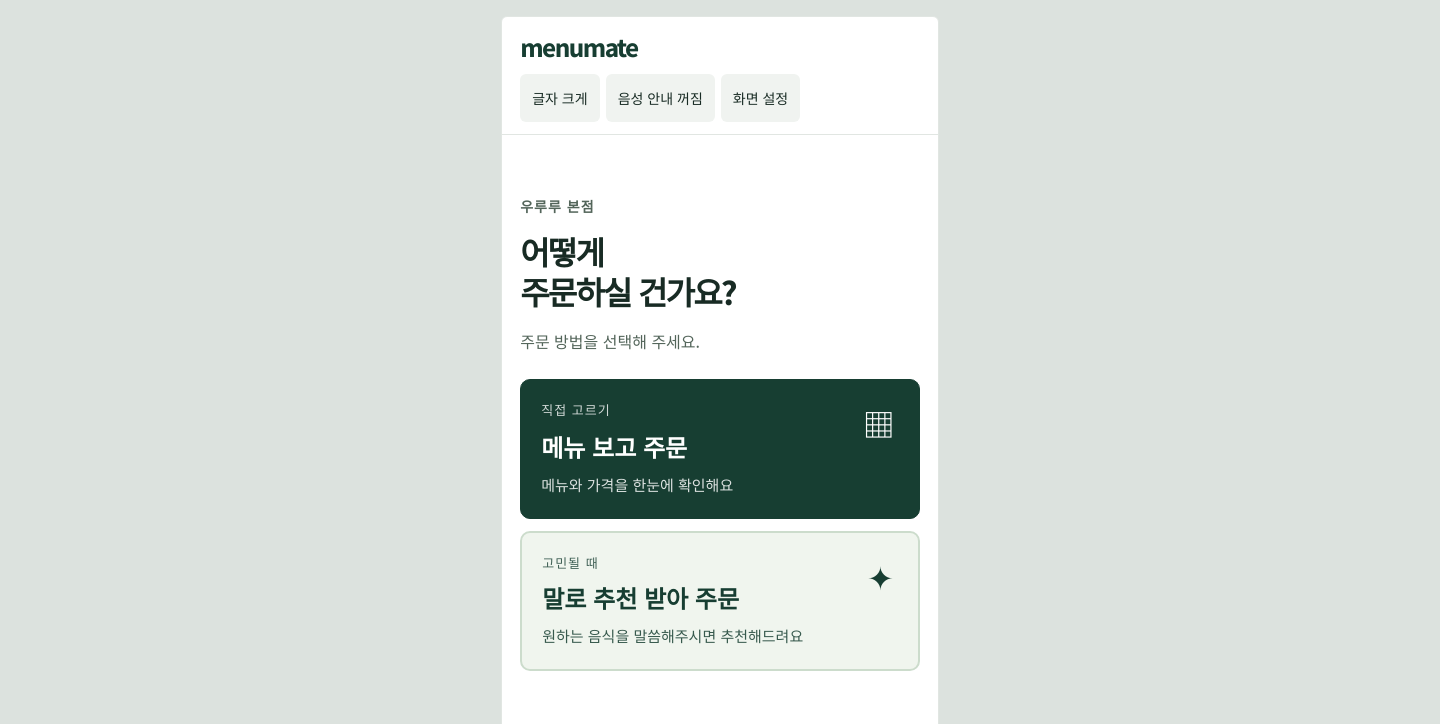
kiosk parity features › suggests side dishes before payment and lets the guest add one
Click the button "직접 고르기 메뉴 보고 주문 메뉴와 가격을 한눈에 확인해요 ▦".
click(576, 409)  # box [520,379,920,519]
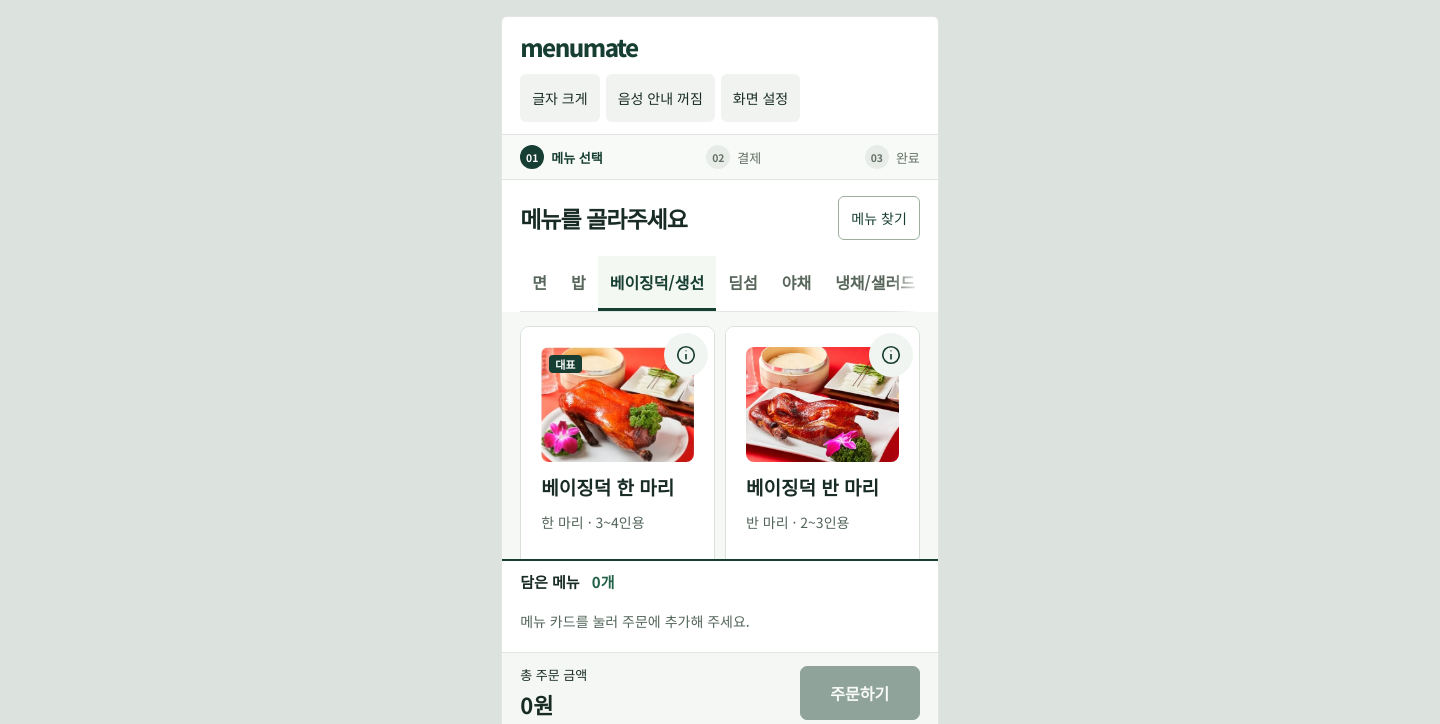
Click the button "면".
click(540, 284)  # box [520,256,559,311]
(page scrolled)
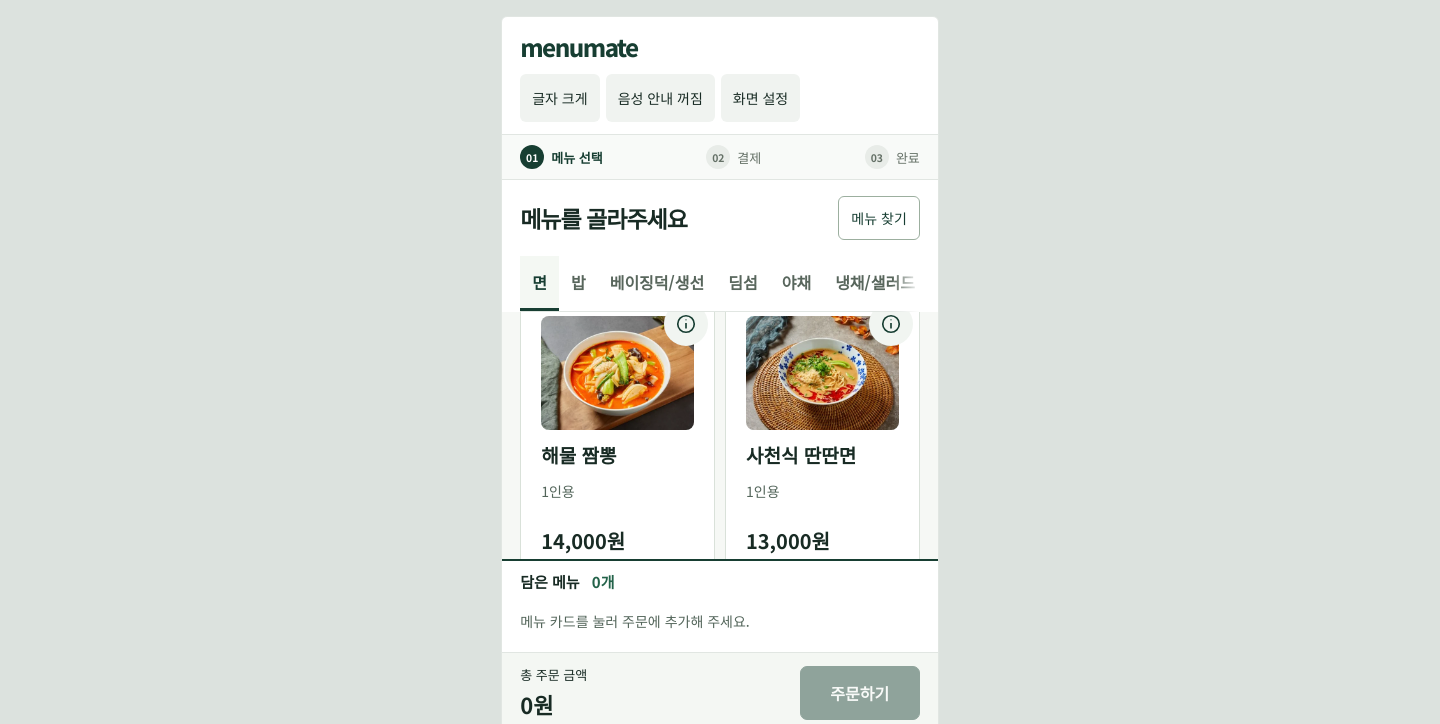
Click the button with aria-label "해물 짬뽕 선택".
click(618, 435)  # box [521,296,714,575]
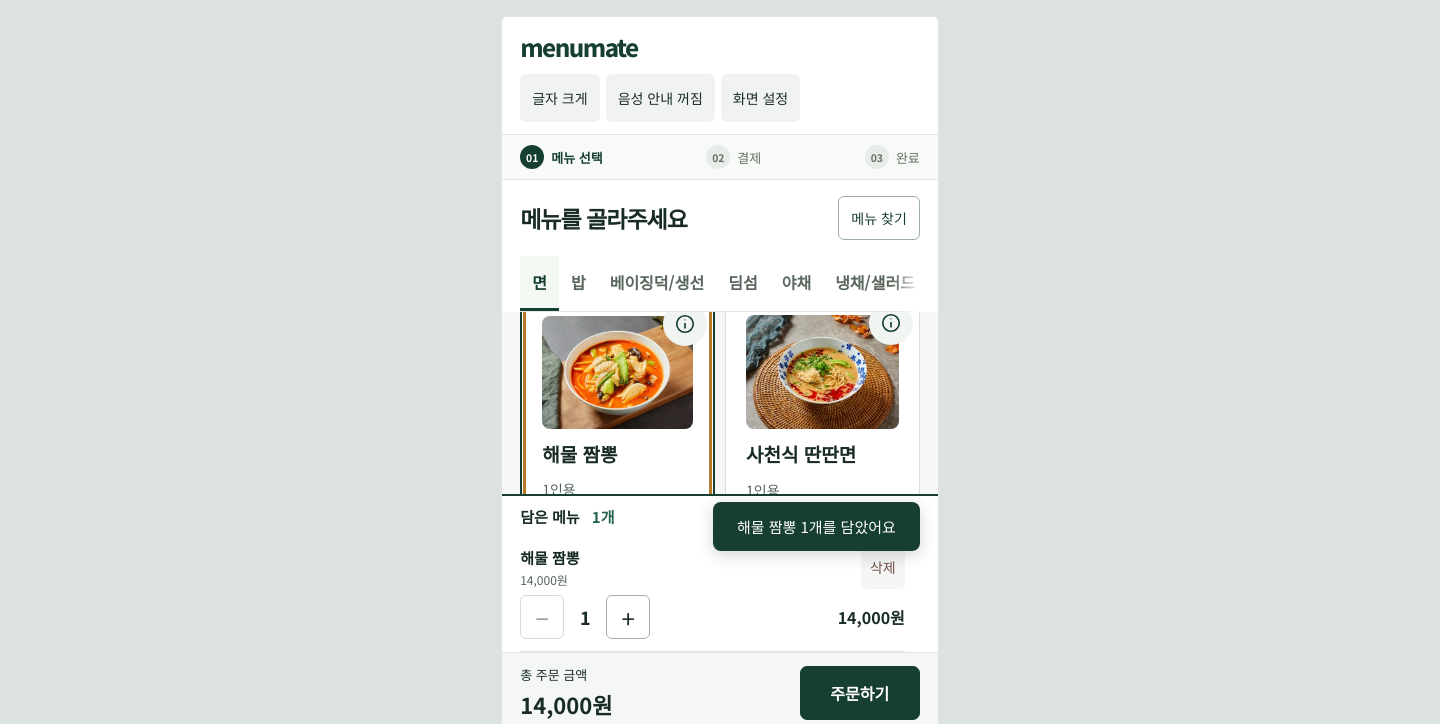
Click the button "주문하기".
click(860, 692)  # box [800,666,920,720]
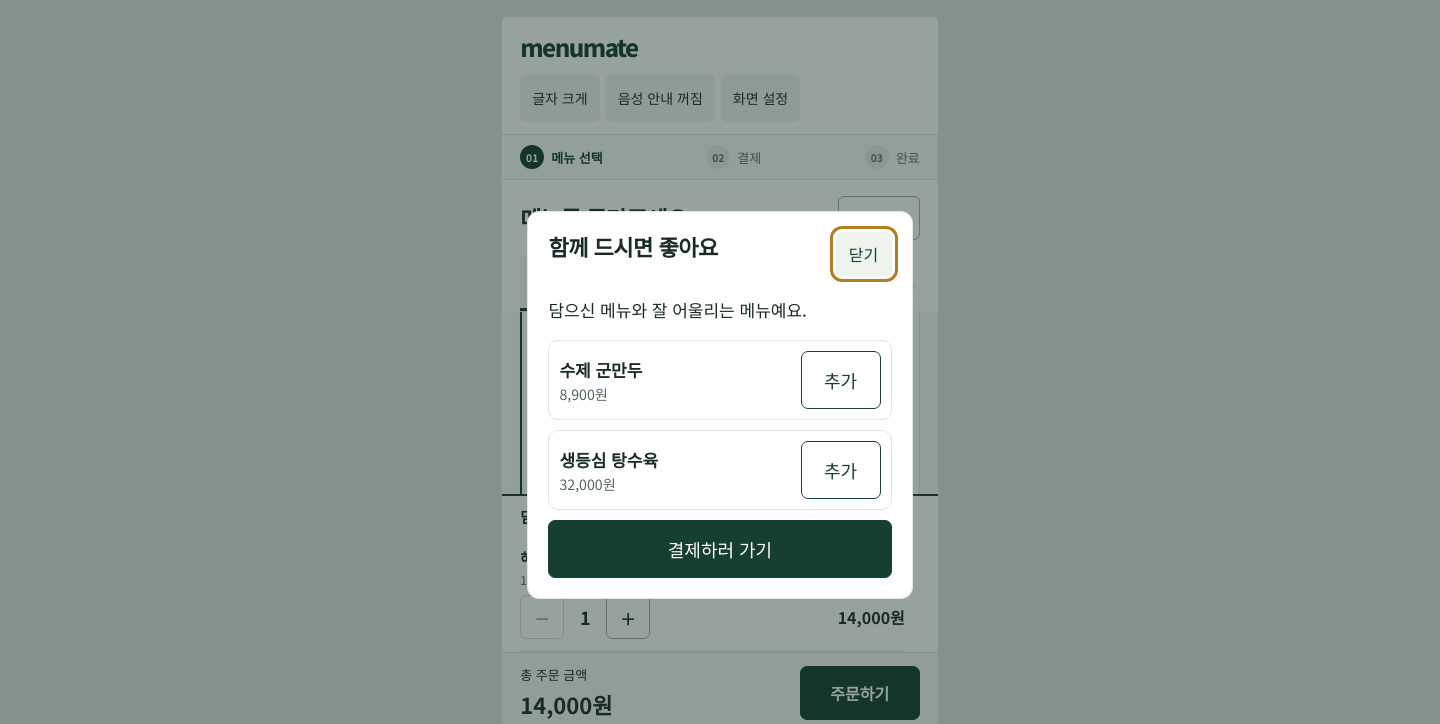
Expected: the dialog shows "함께 드시면 좋아요", [548,230,718,262]
Click the button "추가" next to "수제 군만두".
click(840, 380)  # box [800,351,880,409]
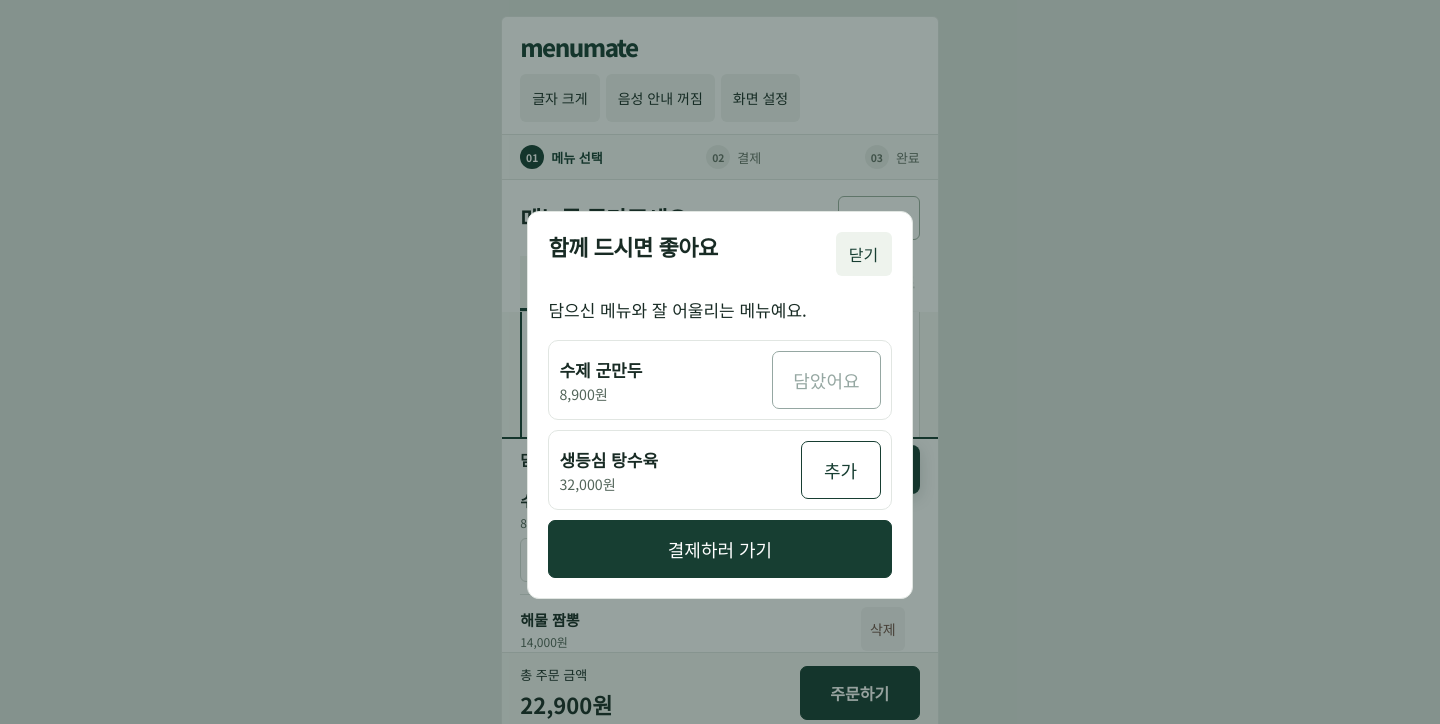
Click the button "결제하러 가기".
click(720, 549)  # box [548,520,892,578]
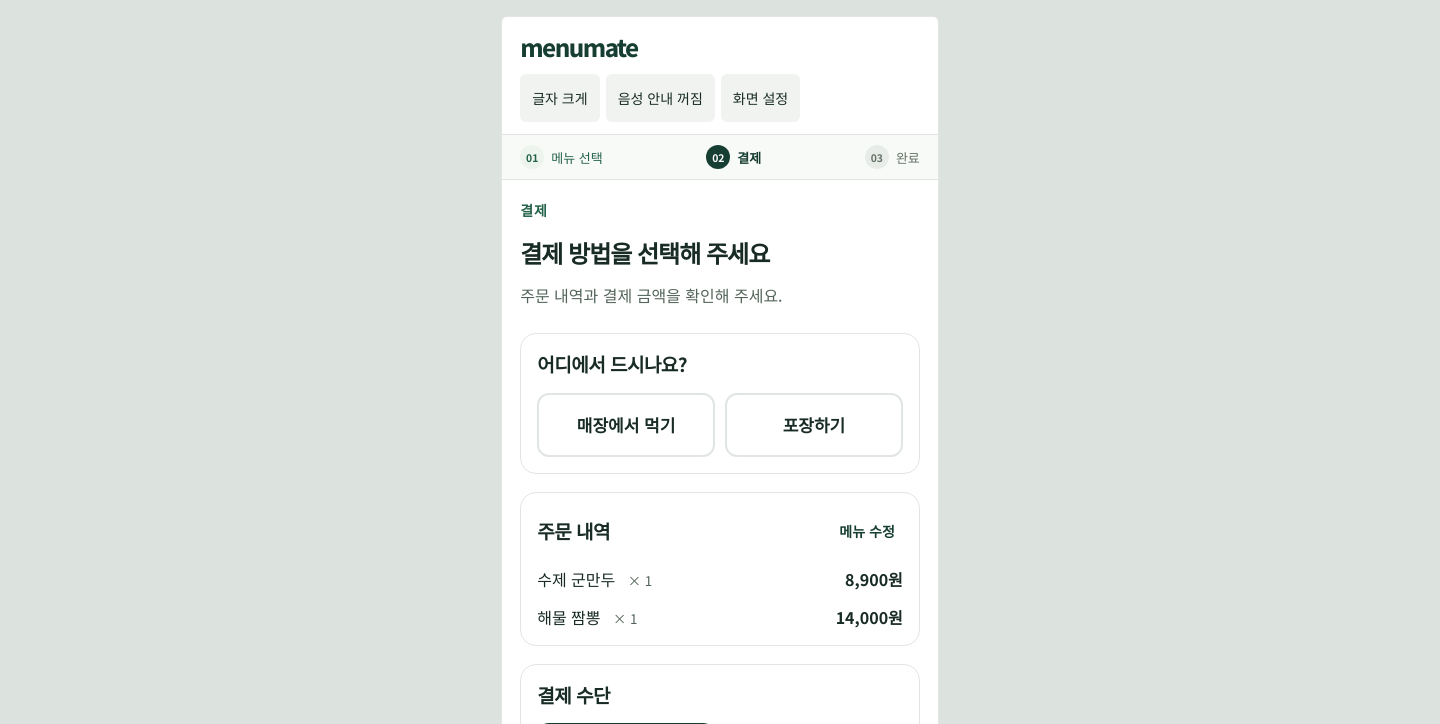
Expected: the text "수제 군만두" is shown, [537,567,615,591]
